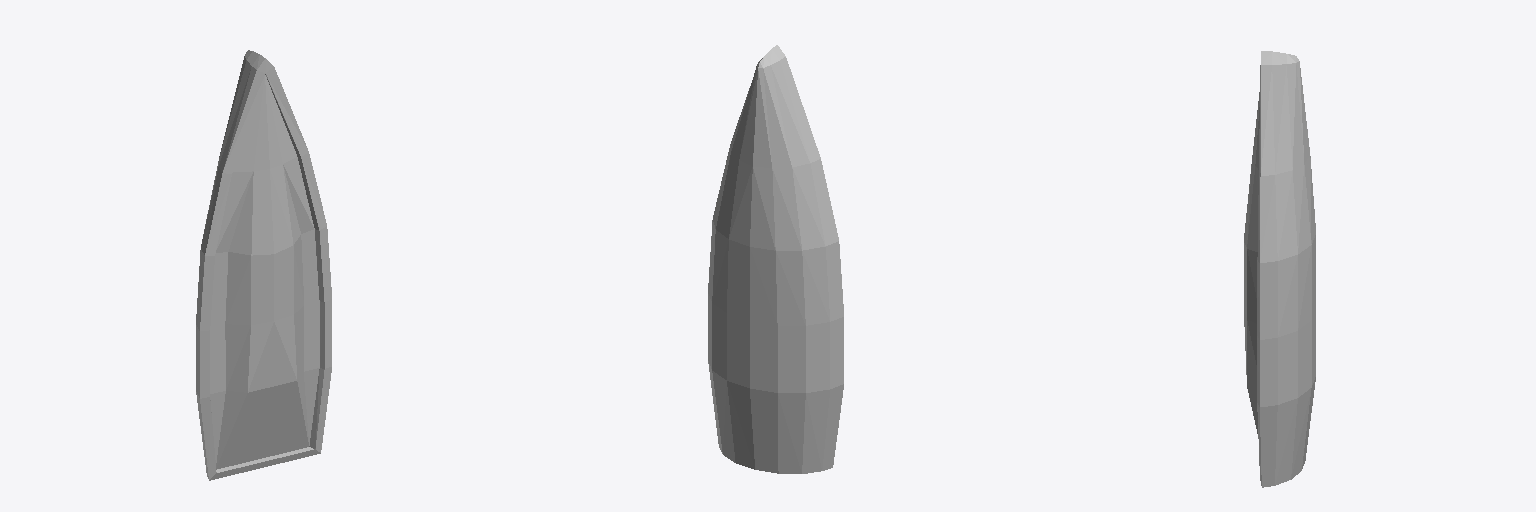
Rendered from boat.obj.
3 views of the same model, side by side, from view 1: azimuth 30°, elevation 25°; view 2: azimuth 150°, elevation 25°; view 3: azimuth 270°, elevation 25° (orthographic).
Parts seen in each view (by area): view 1: Boat6_Cylinder.006; view 2: Boat6_Cylinder.006; view 3: Boat6_Cylinder.006.
Part boxes in pixels (left/top/right/bottom): Boat6_Cylinder.006: left=196, top=50, right=331, bottom=480; Boat6_Cylinder.006: left=708, top=45, right=843, bottom=473; Boat6_Cylinder.006: left=1244, top=51, right=1315, bottom=487.
Bounding box in the file's own units: 1.71 × 5.04 × 0.8109.